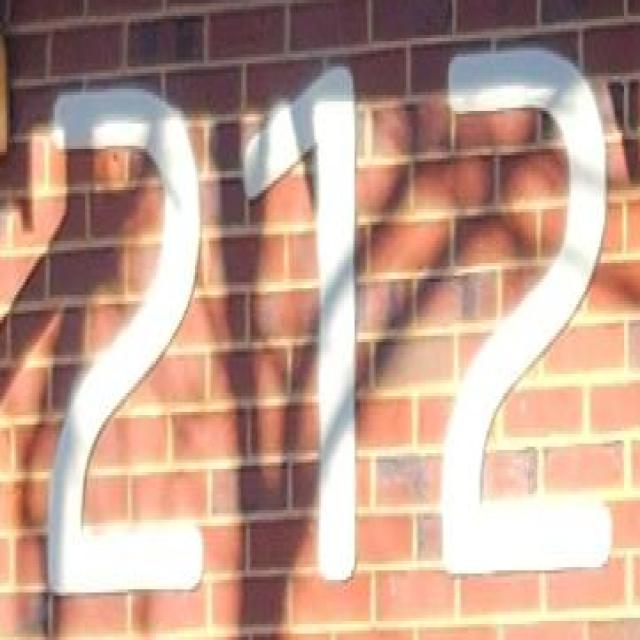character: (434, 38, 618, 586), (45, 76, 208, 600), (238, 54, 362, 590)
